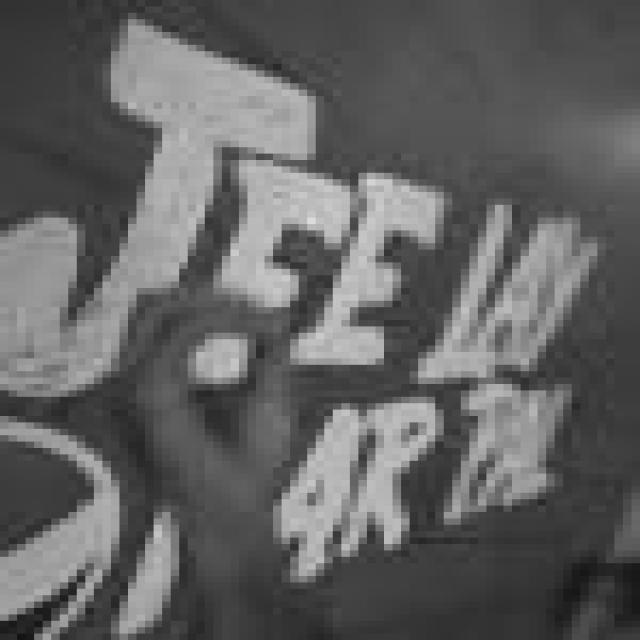O: (119, 282, 316, 538)
